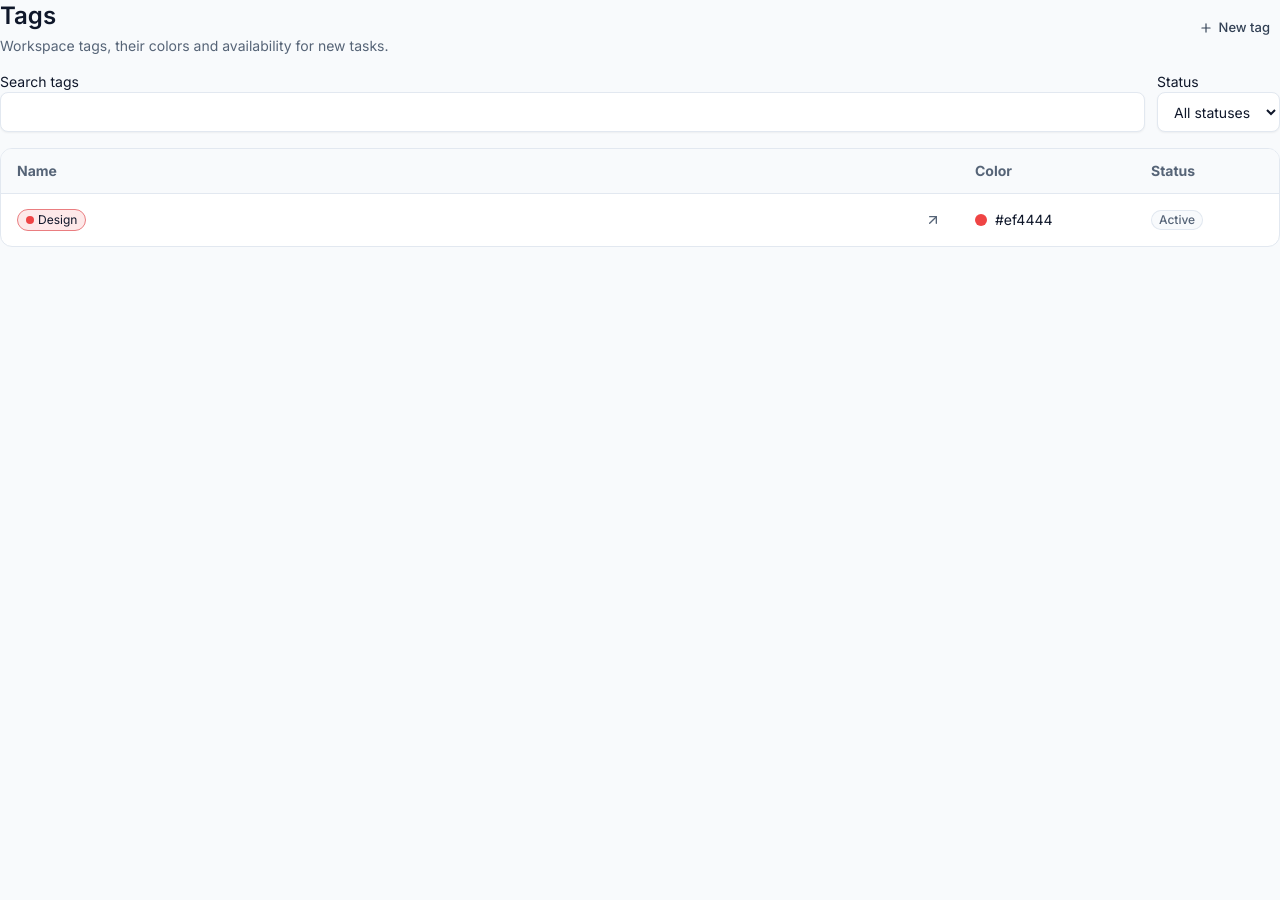
it: tag catalog and settings › saves palette, custom and automatic colors in place, using confirmed revisions before a delayed refresh
Click the button with aria-label "Edit color for Design" at (1047, 220), box [967, 202, 1127, 238]
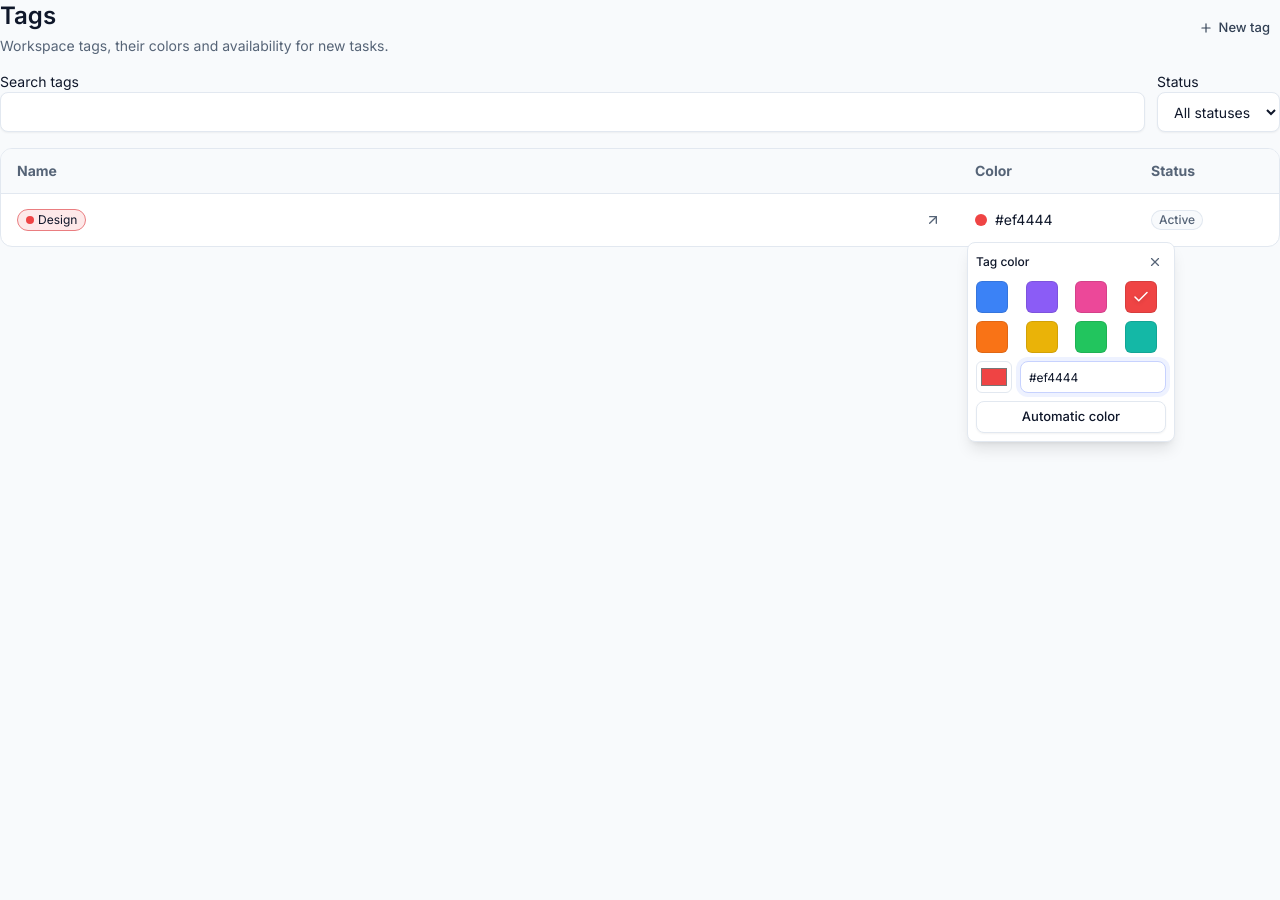
Click the radio button named "Green" at (1091, 337), box [1075, 321, 1107, 353]
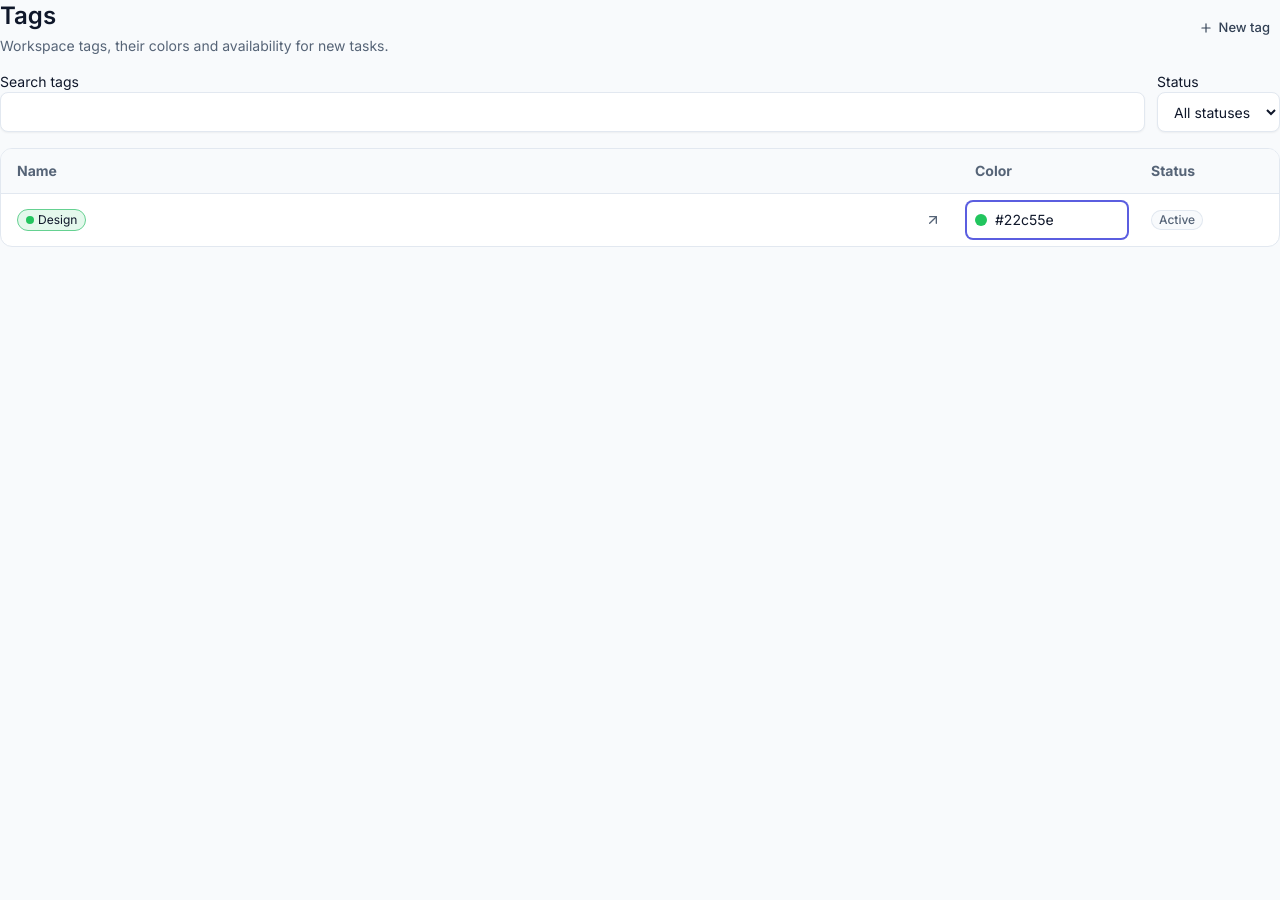
Expected: the form is gone
Expected: the button named "Edit color for Design" reads "#22c55e"
Click the button named "Edit color for Design" at (1047, 220), box [967, 202, 1127, 238]
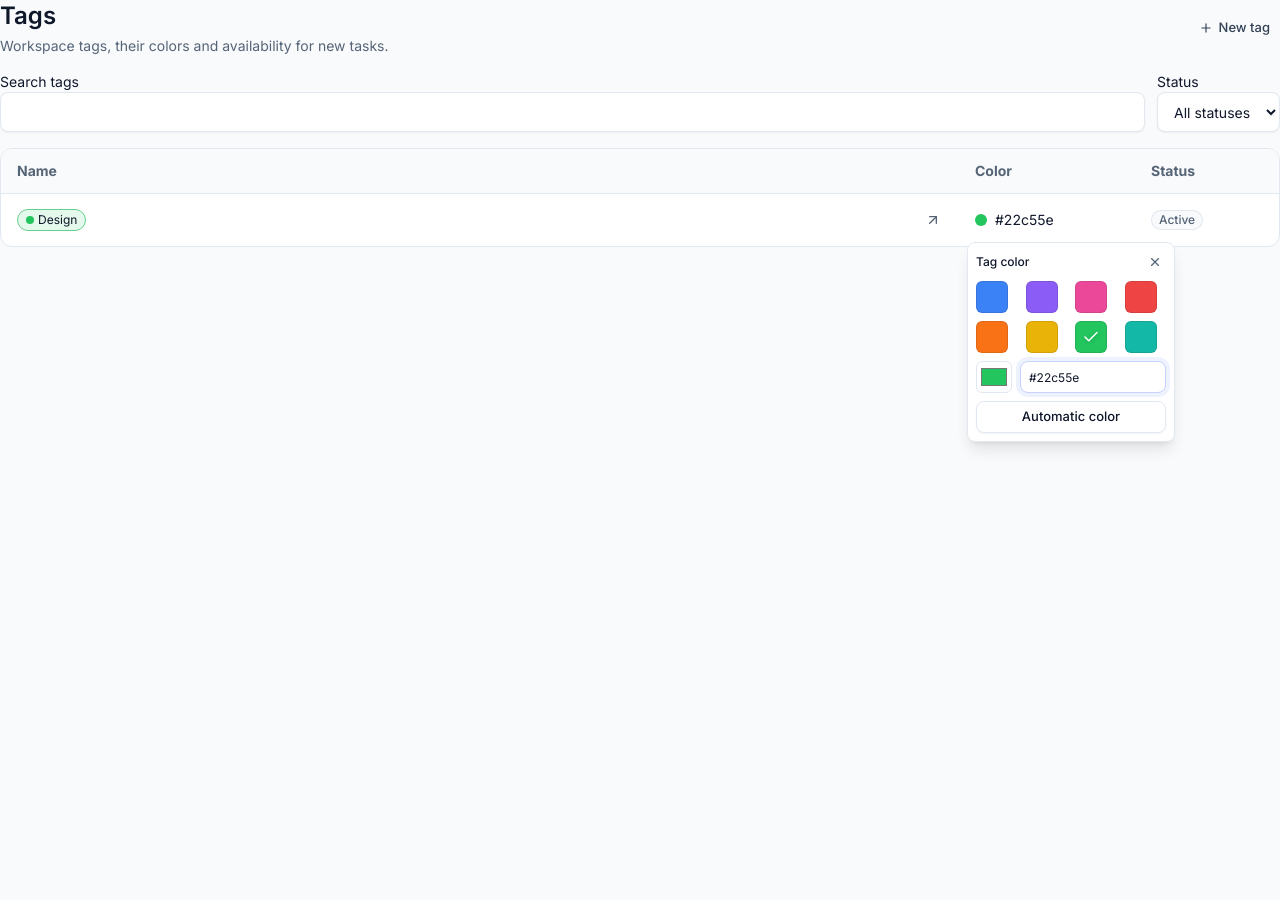
Replace the text in the field named "Custom color" with "#123abc" at (1093, 377), box [1020, 361, 1166, 393]
Then press Enter
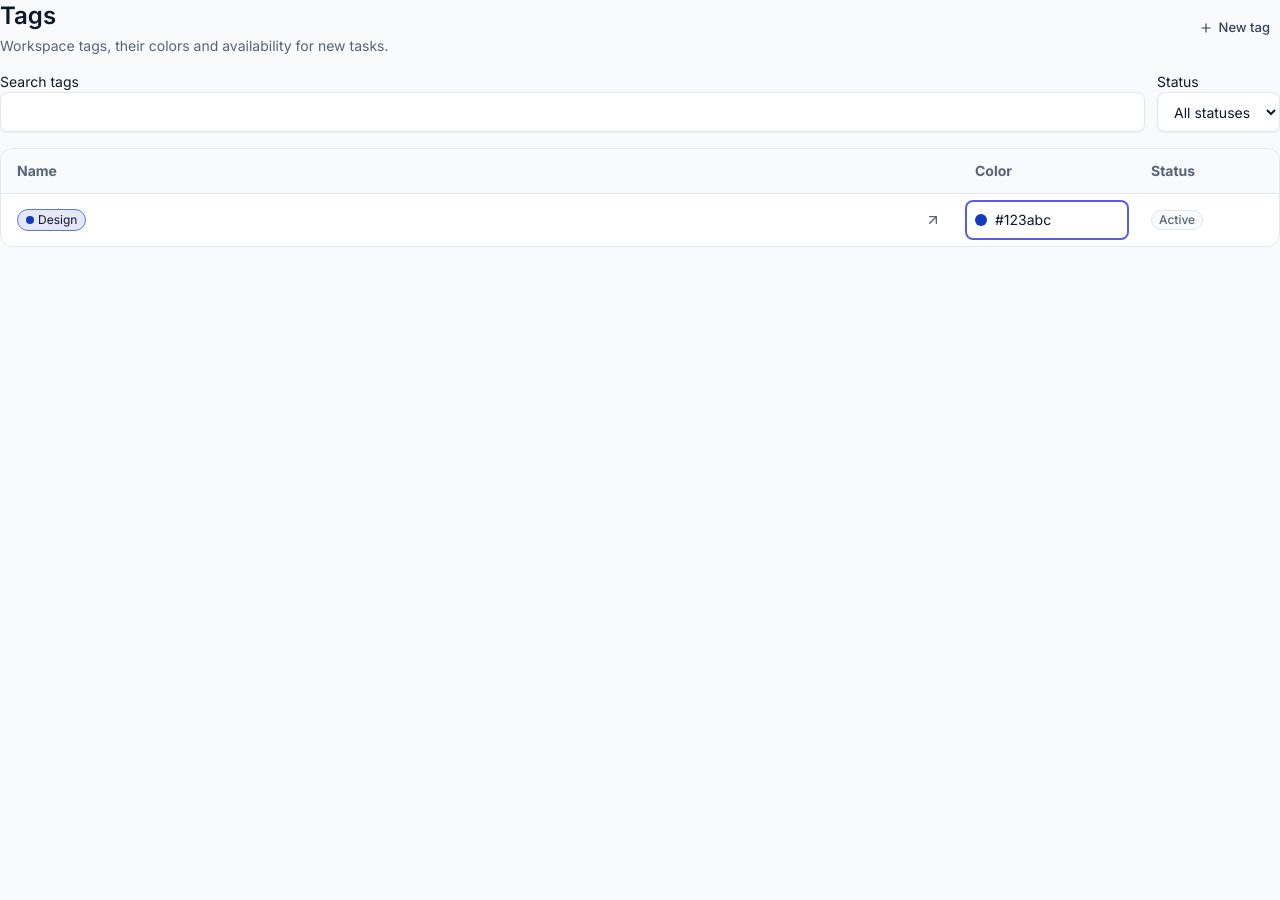
Expected: the form is gone
Click the button with aria-label "Edit color for Design" at (1047, 220), box [967, 202, 1127, 238]
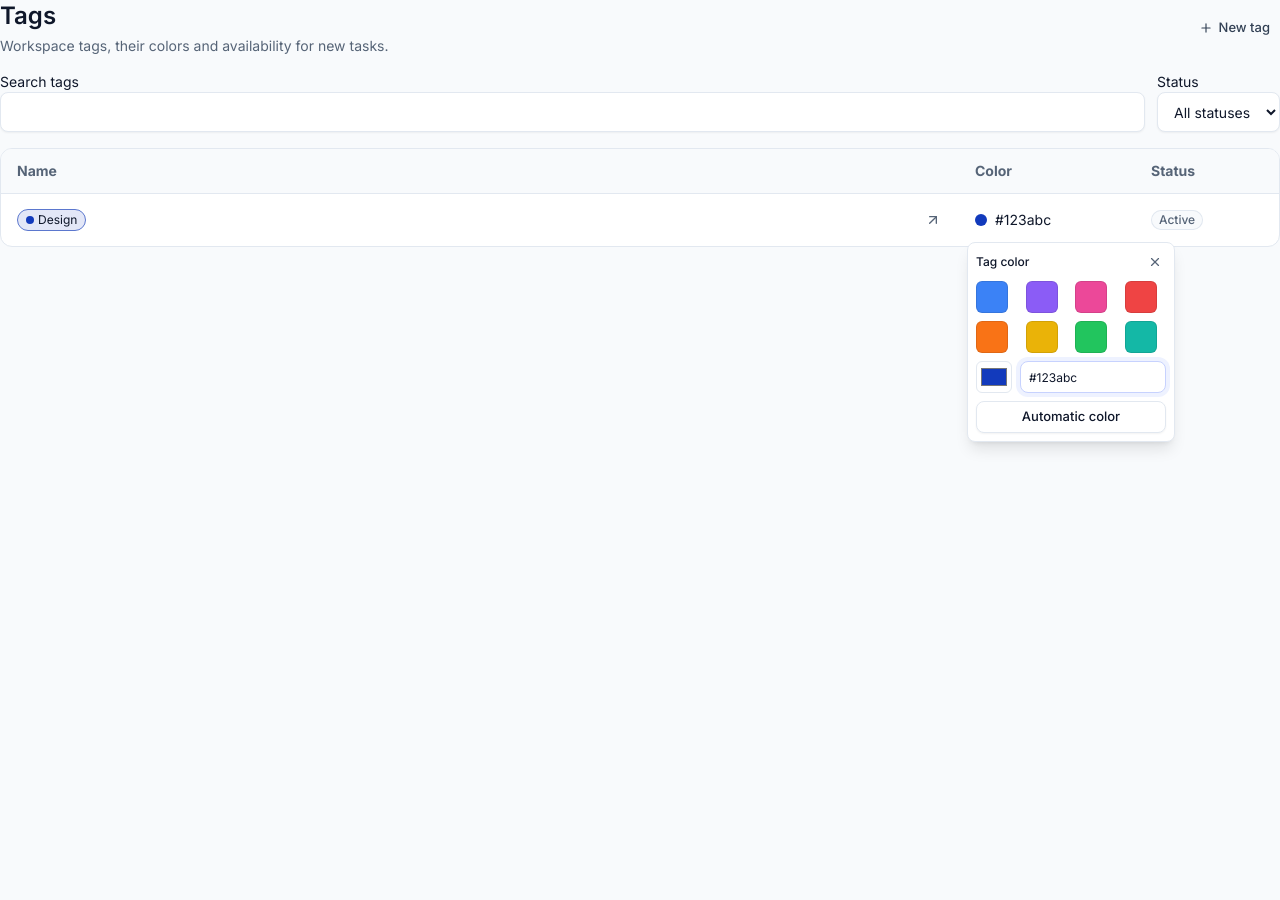
Click the button "Automatic color" at (1071, 417), box [976, 401, 1166, 433]
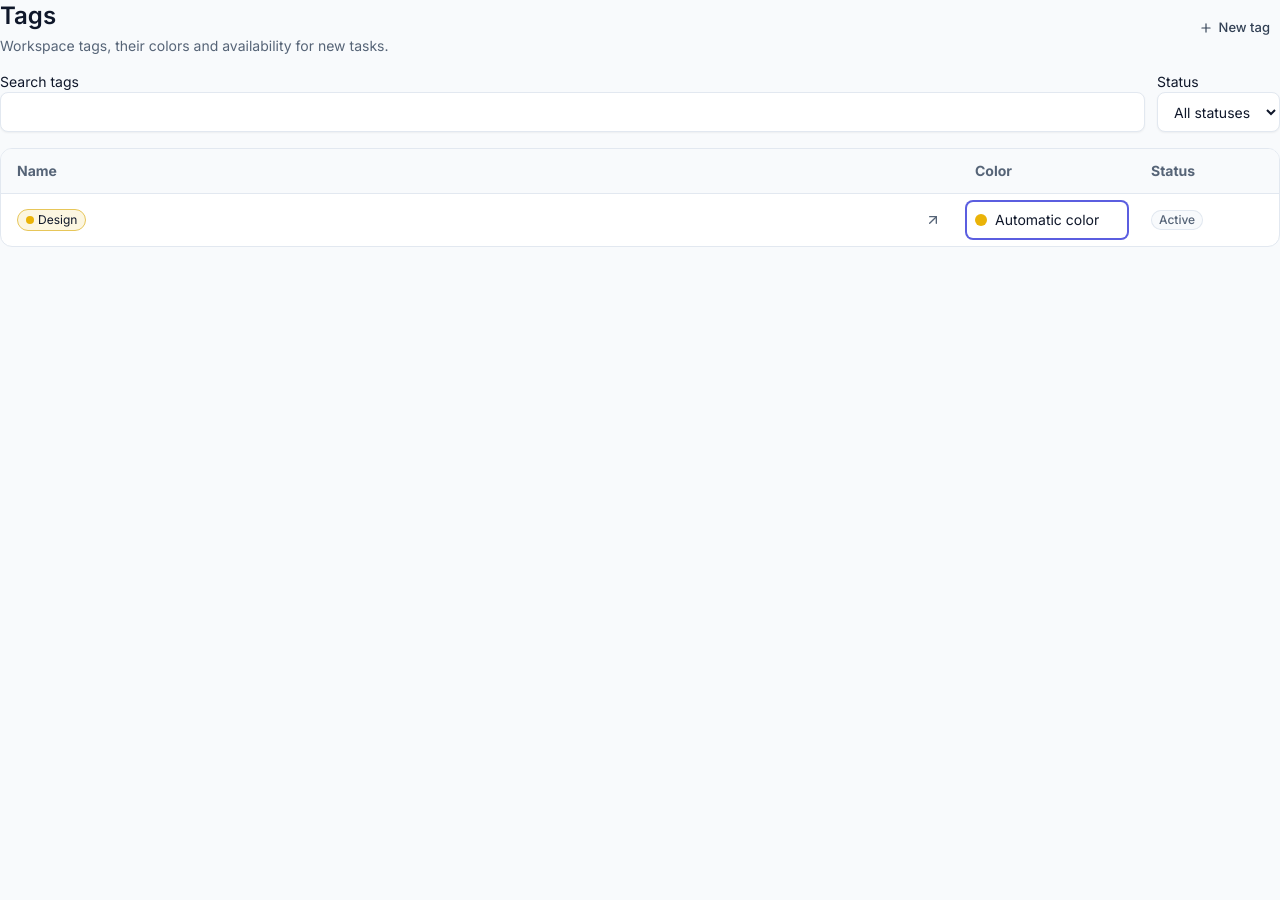
Expected: the form is gone
Expected: the button with aria-label "Edit color for Design" reads "Automatic color", [967, 202, 1127, 238]
